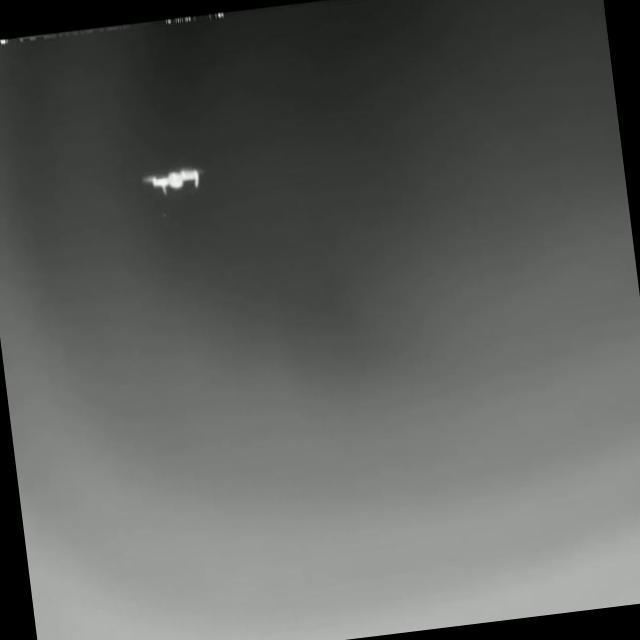DRONE: (140, 164, 207, 197)
